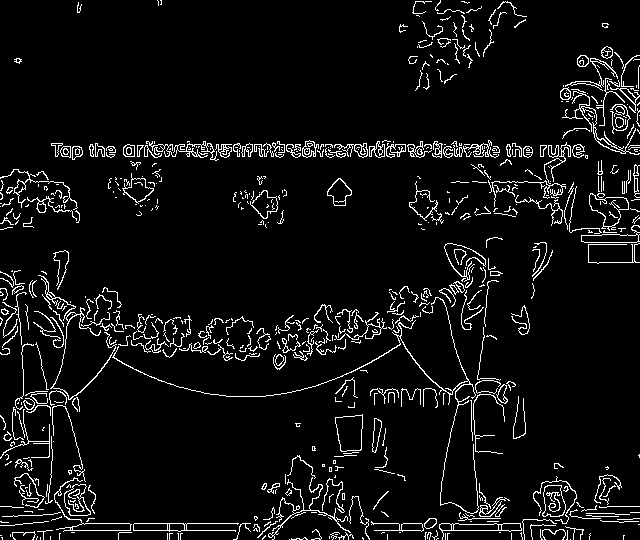down: (116, 173, 161, 210), (402, 186, 443, 222)
left: (245, 187, 286, 226)
up: (322, 175, 358, 213)
